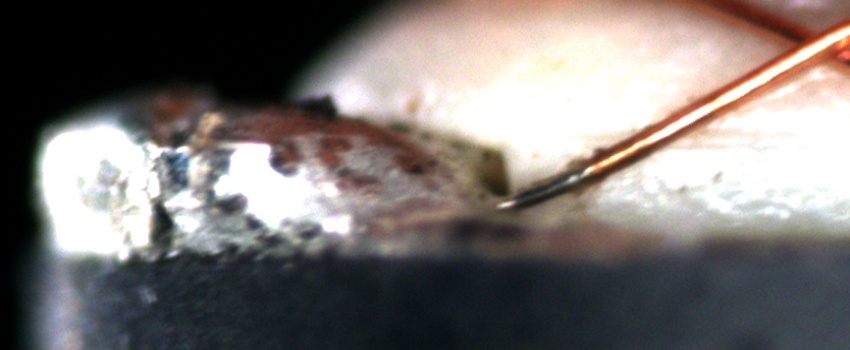CL: (763, 12, 847, 76)
DL: (586, 113, 841, 167)
TS: (492, 162, 595, 211)
TTCW: (496, 133, 651, 217)
